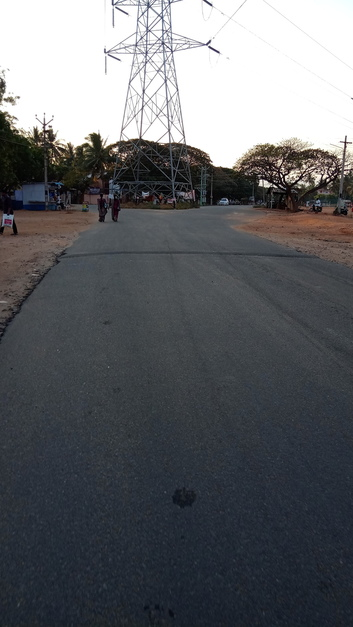bump: (58, 248, 320, 260)
